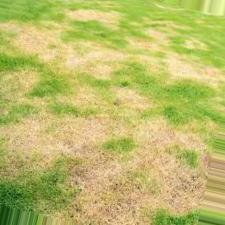patch: (79, 171, 188, 217), (54, 124, 108, 167), (13, 21, 52, 57), (134, 122, 171, 154), (66, 47, 108, 75), (73, 10, 116, 24), (169, 57, 198, 76)
